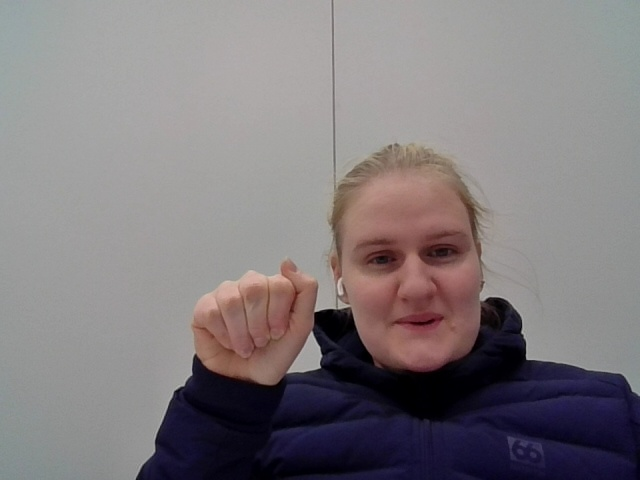down: (170, 252, 315, 405)
